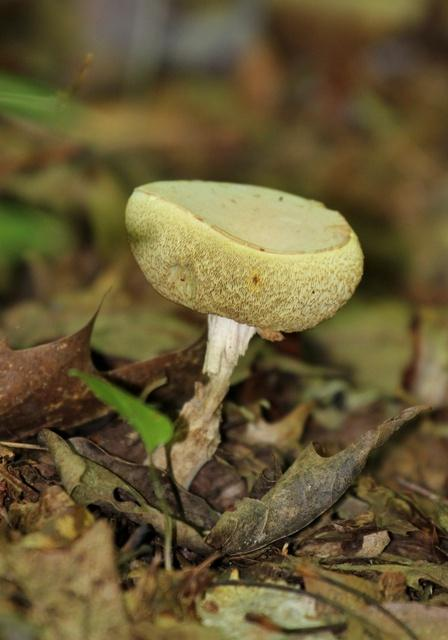edible_mushroom: (122, 177, 365, 492)
